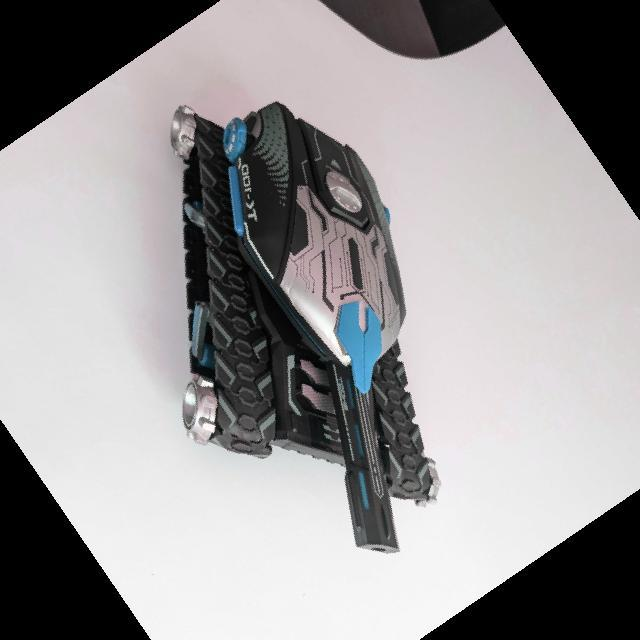barrel: (325, 361, 401, 556)
